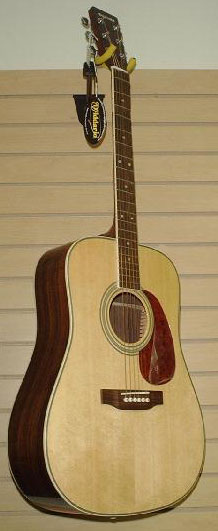guitar: (5, 5, 206, 523)
